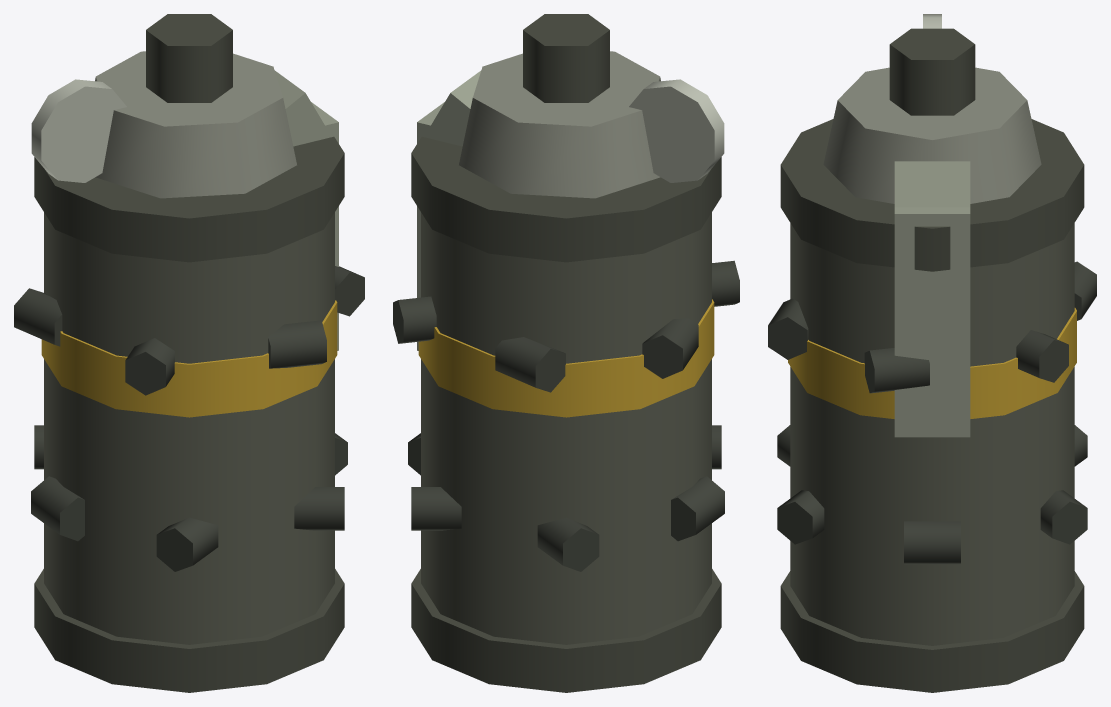
File: stun_grenade.glb
3 renders of one model, left to right at view 1: azimuth 30°, elevation 25°; view 2: azimuth 150°, elevation 25°; view 3: azimuth 270°, elevation 25°, orthographic. The views are drawn at different scales.
Visible parts, largest first — view 1: Body_Core, Body_RimTop, Fuse_Cap, Body_RimBottom, Body_Band, Fuse_Striker, Fuse_PullRing, Body_Port02, Body_Port11, Body_Port03, Body_Port12, Body_Port13 (+4 smaller); view 2: Body_Core, Body_RimTop, Fuse_Cap, Body_RimBottom, Body_Band, Fuse_Striker, Fuse_PullRing, Body_Port14, Body_Port04, Body_Port13, Body_Port03, Body_Port05 (+4 smaller); view 3: Body_Core, Body_RimTop, Fuse_Cap, Body_RimBottom, Fuse_Spoon, Body_Band, Fuse_Striker, Fuse_SpoonTop, Body_Port00, Body_Port10, Body_Port15, Body_Port01 (+3 smaller).
Part boxes in pixels (<box>): Body_Core: <box>44,212,334,644</box>; Body_RimTop: <box>34,136,344,262</box>; Fuse_Cap: <box>95,51,296,198</box>; Body_RimBottom: <box>34,569,344,692</box>; Body_Band: <box>41,300,337,417</box>; Fuse_Striker: <box>146,14,232,102</box>; Fuse_PullRing: <box>31,79,126,182</box>; Body_Port02: <box>156,517,218,571</box>; Body_Port11: <box>268,320,326,368</box>; Body_Port03: <box>31,476,84,541</box>; Body_Port12: <box>125,338,174,395</box>; Body_Port13: <box>14,288,62,346</box>; Body_Core: <box>421,212,711,644</box>; Body_RimTop: <box>411,136,721,262</box>; Fuse_Cap: <box>459,51,660,198</box>; Body_RimBottom: <box>411,569,721,692</box>; Body_Band: <box>418,299,714,417</box>; Fuse_Striker: <box>523,14,609,102</box>; Fuse_PullRing: <box>629,79,724,182</box>; Body_Port14: <box>495,337,565,392</box>; Body_Port04: <box>537,517,599,571</box>; Body_Port13: <box>642,318,698,378</box>; Body_Port03: <box>671,476,724,541</box>; Body_Port05: <box>411,487,461,530</box>; Body_Core: <box>790,223,1074,645</box>; Body_RimTop: <box>780,119,1084,271</box>; Fuse_Cap: <box>823,67,1041,203</box>; Body_RimBottom: <box>780,571,1084,692</box>; Fuse_Spoon: <box>894,207,970,437</box>; Body_Band: <box>788,308,1076,418</box>; Fuse_Striker: <box>889,28,975,115</box>; Fuse_SpoonTop: <box>894,161,970,207</box>; Body_Port00: <box>904,521,960,564</box>; Body_Port10: <box>864,348,929,393</box>; Body_Port15: <box>1016,330,1068,382</box>; Body_Port01: <box>777,490,824,544</box>.
Size of the model in its own units: 0.0712 by 0.136 by 0.0693.
